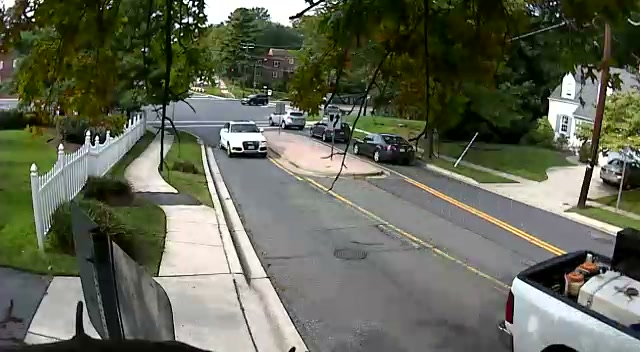car: (349, 132, 415, 165), (219, 121, 268, 158), (599, 149, 640, 190), (309, 120, 351, 143), (243, 94, 269, 106)
truck: (496, 235, 640, 352)
